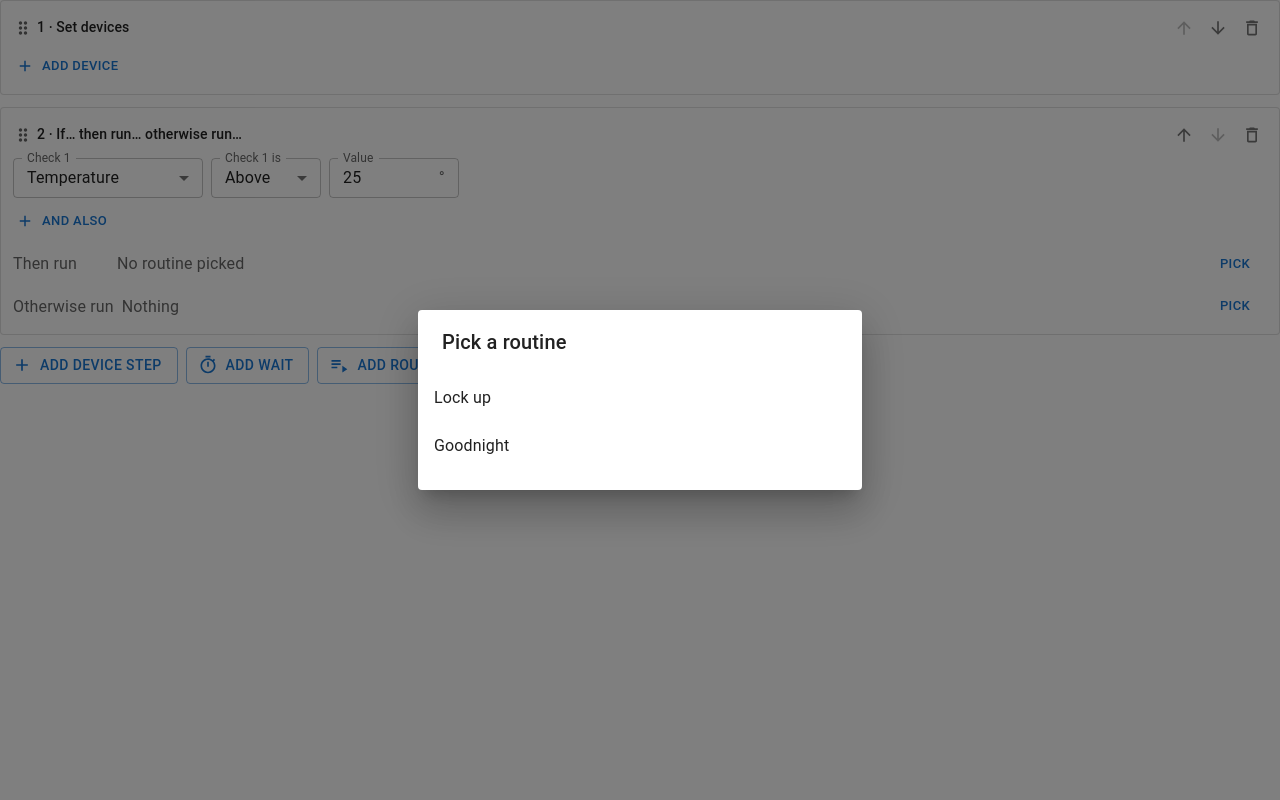
Test: StepList › adds an If step and picks the routine it runs
Earlier steps of the test are not shown.
Click the button "Lock up" at (463, 398), box x1=434 y1=388 x2=491 y2=407
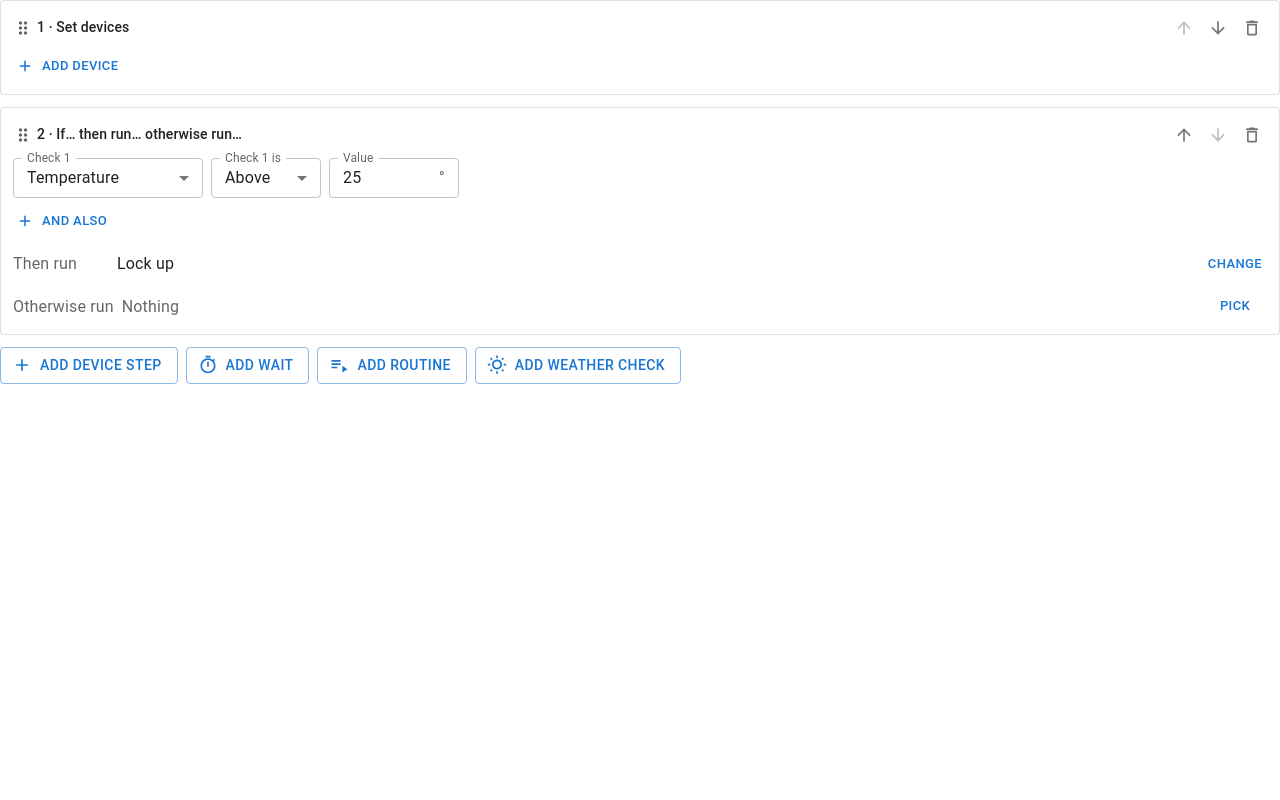
Now the text "Lock up" is shown, box x1=117 y1=254 x2=174 y2=273
